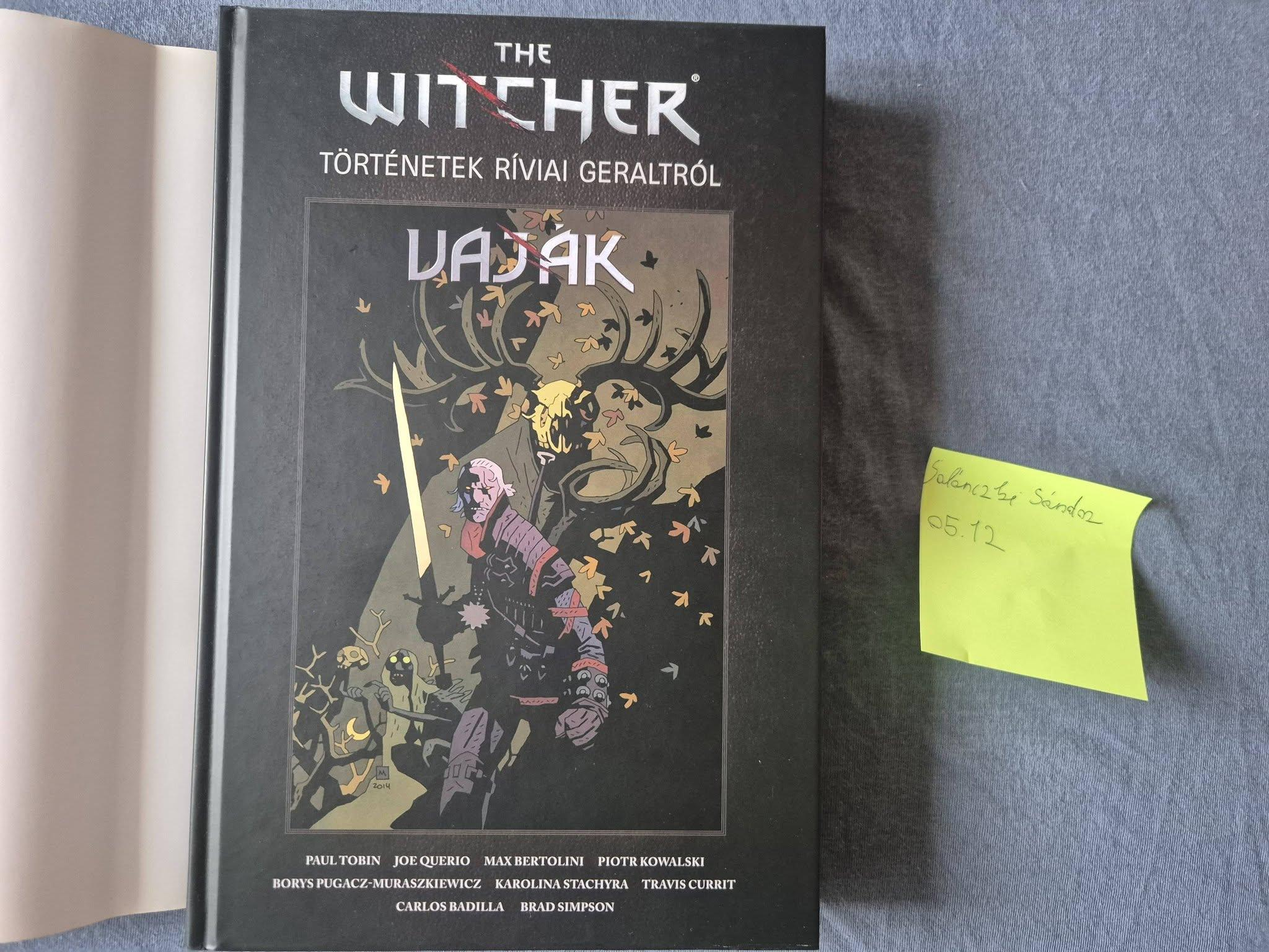comic: (189, 7, 848, 952)
